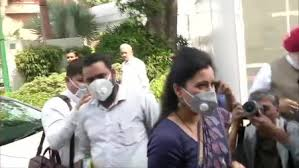mask: (185, 63, 217, 114), (83, 59, 115, 98), (69, 64, 88, 98)
